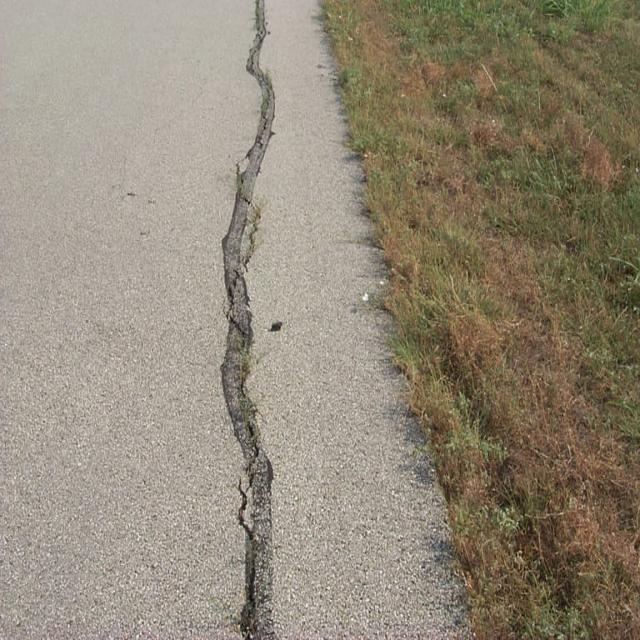Pothole: (188, 15, 428, 640)
